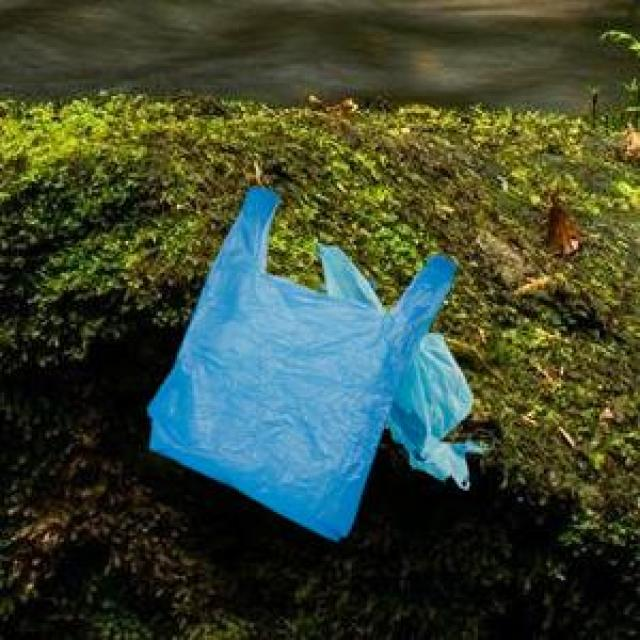litter: (135, 124, 492, 564), (299, 239, 496, 494)
